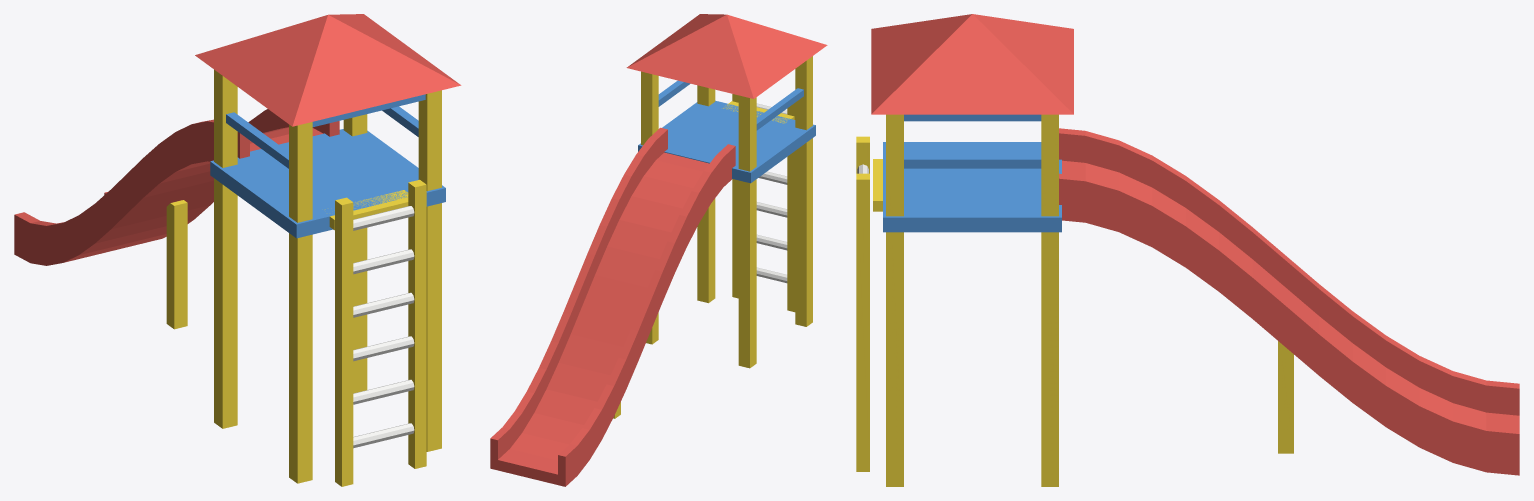
Rendered from th3_rutsche.glb.
The picture shows the model from 3 angles, left to right: view 1: azimuth 30°, elevation 25°; view 2: azimuth 150°, elevation 25°; view 3: azimuth 270°, elevation 25°; orthographic projection. The views are drawn at different scales.
Parts seen in each view (by area): view 1: Dach, Rutschflaeche, Podest_Deck, Pfosten_-1_-1, Pfosten_-1_1, Pfosten_1_-1, Leiter_Holm_-1, Leiter_Holm_1, Rutsche_Stuetze, Pfosten_1_1, Gelaender_mitte_-1, Leiter_Anschluss (+8 smaller); view 2: Rutschflaeche, Dach, Podest_Deck, Pfosten_-1_1, Pfosten_-1_-1, Pfosten_1_-1, Leiter_Holm_-1, Pfosten_1_1, Leiter_Holm_1, Gelaender_mitte_-1; view 3: Rutschflaeche, Dach, Podest_Deck, Pfosten_1_-1, Pfosten_1_1, Leiter_Holm_1, Gelaender_mitte_1, Rutsche_Stuetze, Gelaender_oben_1.
Part boxes in pixels (x1,y1,x2,y2): Dach: (195,14,461,126); Rutschflaeche: (14,109,339,265); Podest_Deck: (210,129,445,238); Pfosten_-1_-1: (289,122,312,483); Pfosten_-1_1: (214,69,237,428); Pfosten_1_-1: (418,90,441,451); Leiter_Holm_-1: (335,197,353,486); Leiter_Holm_1: (408,179,426,468); Rutsche_Stuetze: (166,200,187,329); Pfosten_1_1: (343,114,367,393); Gelaender_mitte_-1: (226,112,288,168); Leiter_Anschluss: (325,190,408,230); Rutschflaeche: (490,127,735,486); Dach: (626,14,827,98); Podest_Deck: (638,100,815,183); Pfosten_-1_1: (738,95,756,368); Pfosten_-1_-1: (795,56,812,326); Pfosten_1_-1: (697,85,715,303); Leiter_Holm_-1: (787,103,795,312); Pfosten_1_1: (641,71,658,344); Leiter_Holm_1: (732,94,738,298); Gelaender_mitte_-1: (756,88,803,130); Rutschflaeche: (1059,128,1519,475); Dach: (871,14,1073,114); Podest_Deck: (883,142,1061,232); Pfosten_1_-1: (886,114,903,486); Pfosten_1_1: (1041,114,1058,486); Leiter_Holm_1: (856,173,869,471); Gelaender_mitte_1: (904,155,1041,168); Rutsche_Stuetze: (1278,341,1293,453); Gelaender_oben_1: (904,114,1041,121).
Size of the model in its own units: 1.02 by 2.42 by 3.34.
